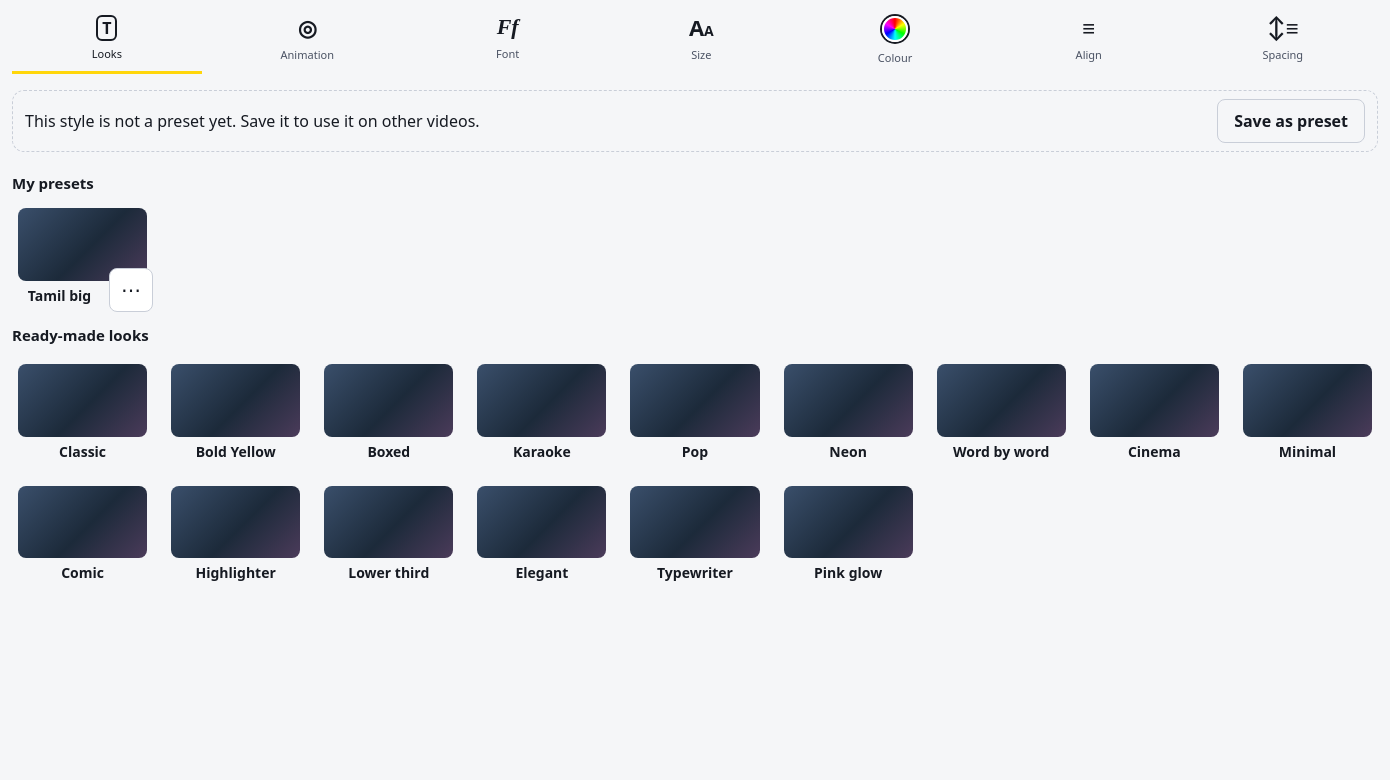
Presets › applies a preset to the current video with every style setting, including the font
Click the radio button labelled "Tamil big". click: (83, 257)
box: [12,202,153,312]
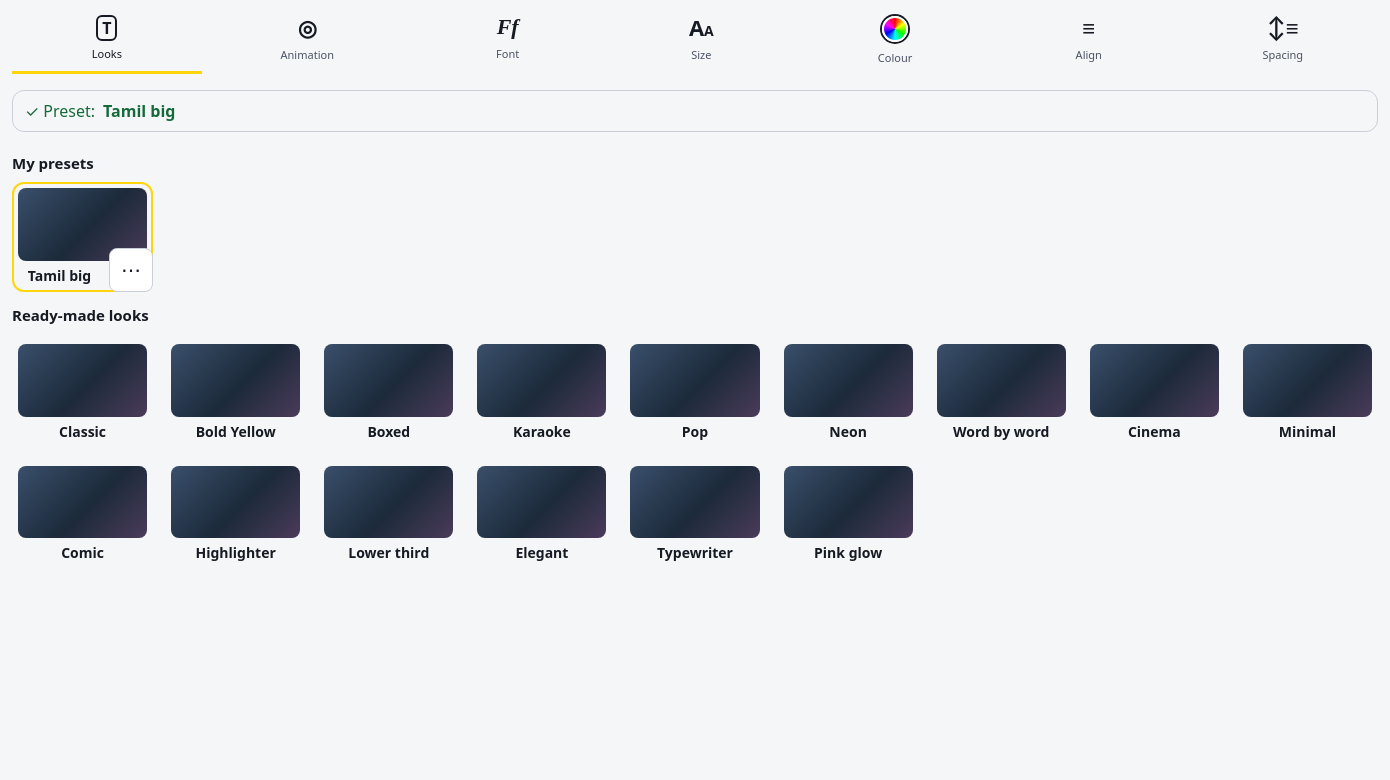
Result: the text "Tamil big" next to "✓ Preset:" is shown at [103,100,176,122]
